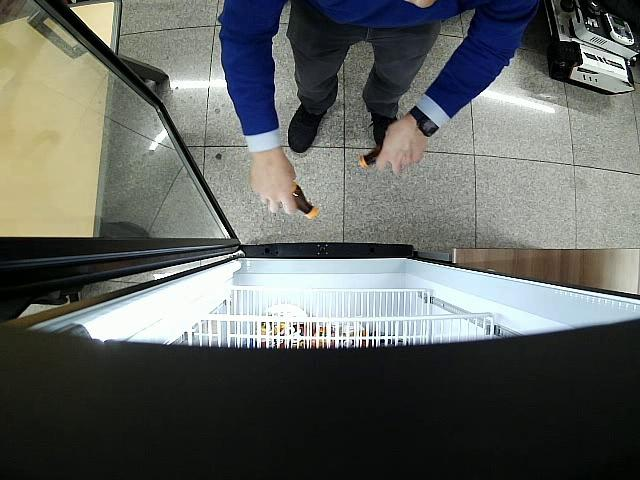00_hand: (377, 112, 429, 179), (250, 154, 299, 216)
17_vita500: (292, 181, 319, 220), (358, 146, 383, 169)
